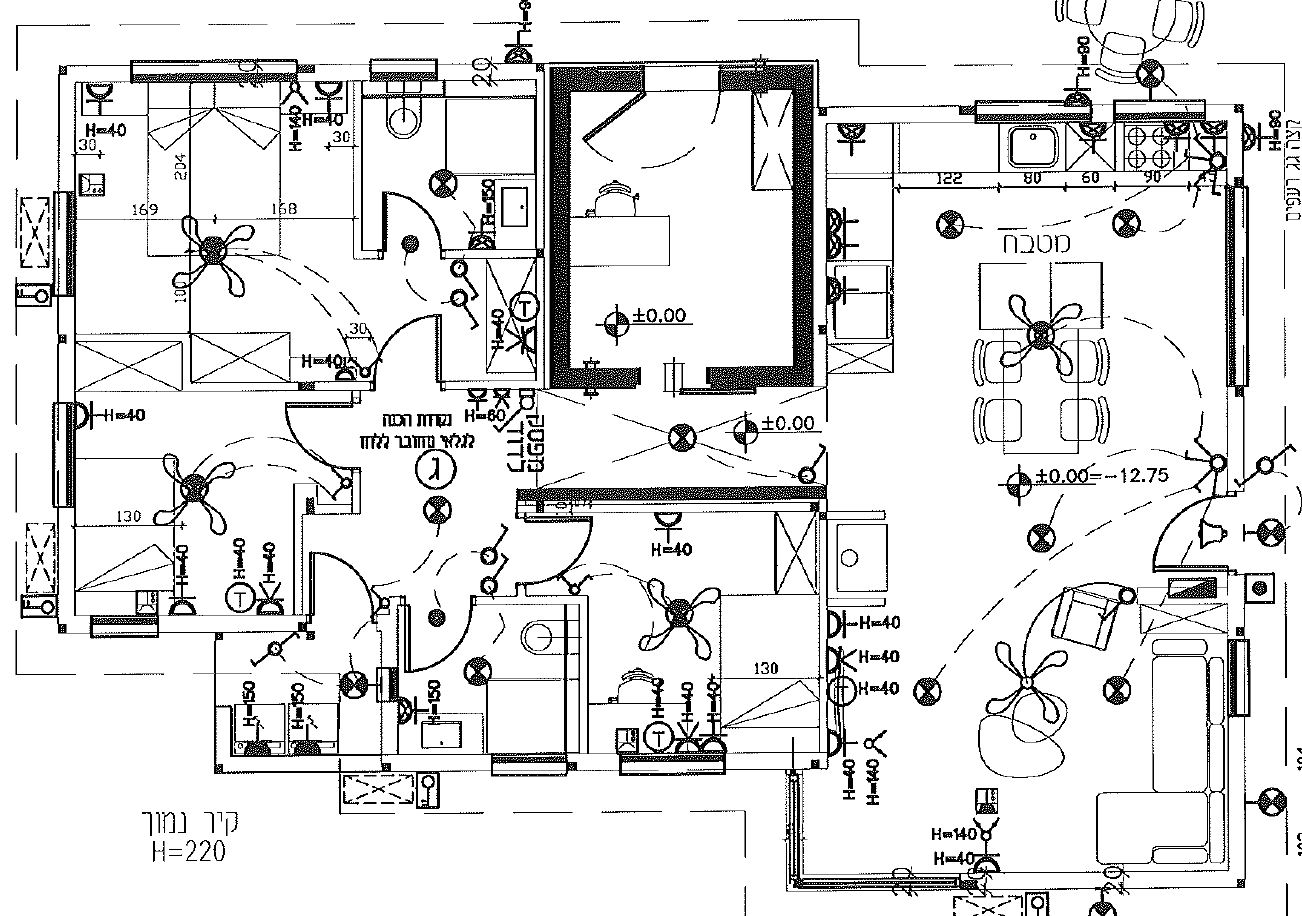door: (304, 533, 369, 606), (375, 192, 437, 234)
wall: (550, 62, 570, 390), (793, 62, 812, 383), (515, 490, 827, 499)
